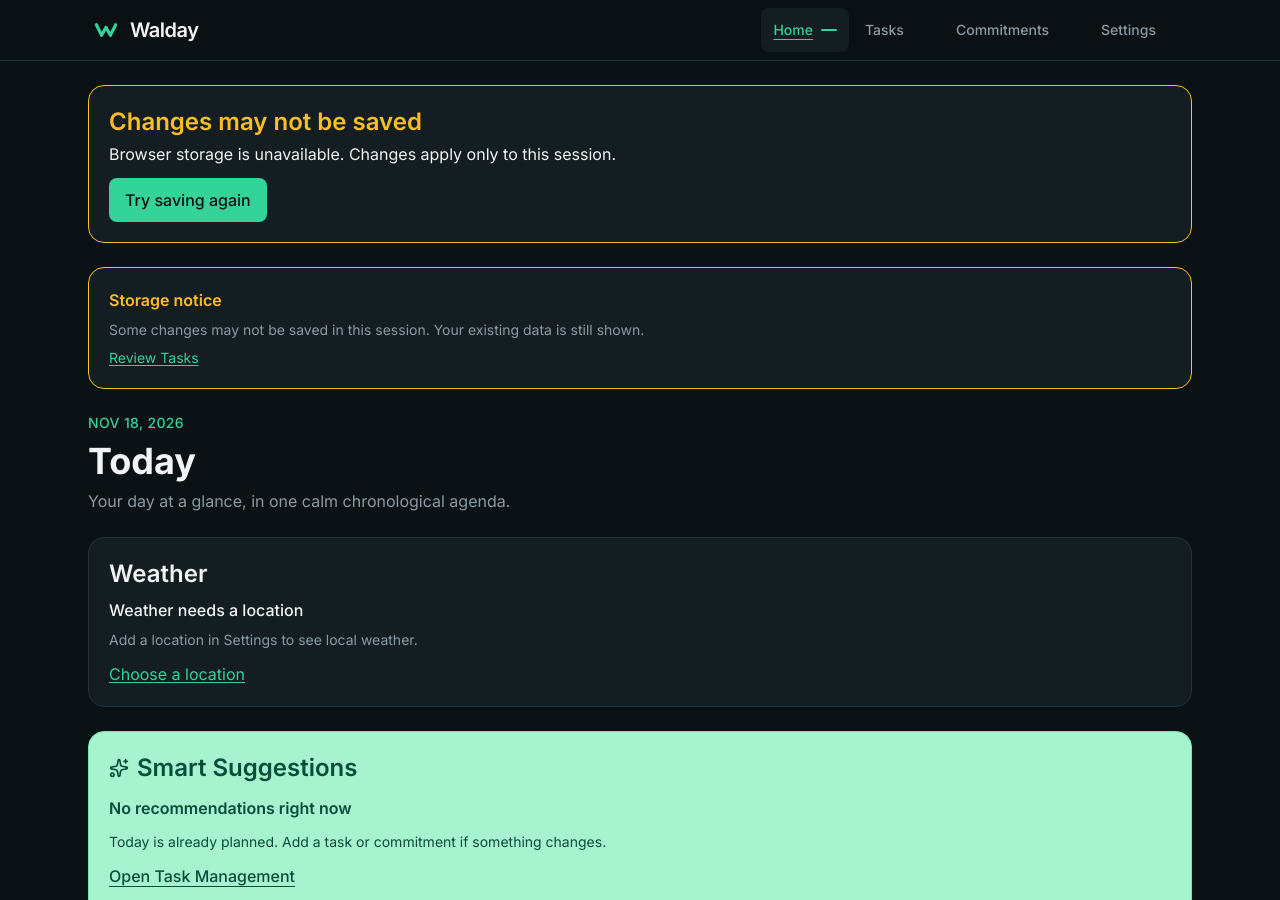
it: agenda loading and state feedback › shows a retry action when storage is unavailable and recovers
The image size is (1280, 900).
Check: the heading "Today" is shown, box top-left (88, 439), bottom-right (196, 483)
Check: the heading "Changes may not be saved" is shown, box top-left (109, 107), bottom-right (422, 136)
Click the button "Try saving again": [188, 200] box top-left (109, 178), bottom-right (267, 222)
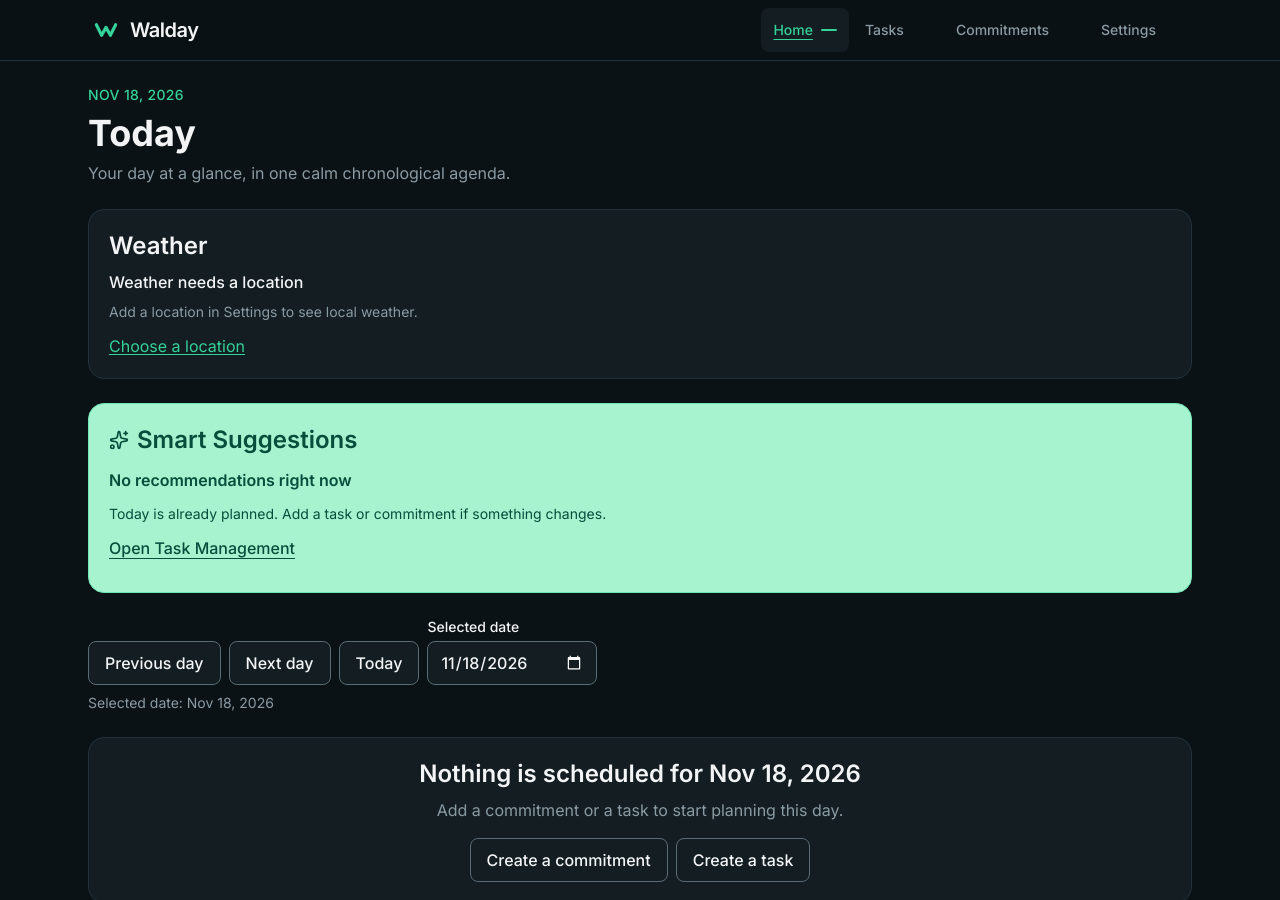
Check: the heading "Changes may not be saved" is gone
